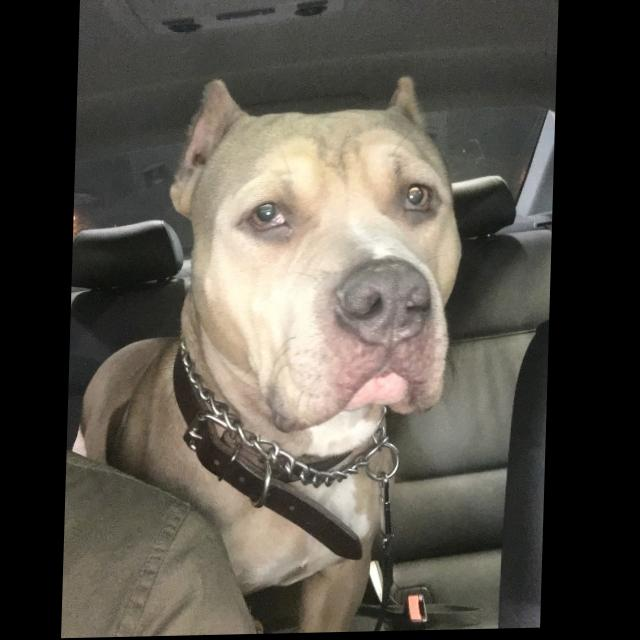am_pit_bull_terrier: (72, 75, 472, 640)
